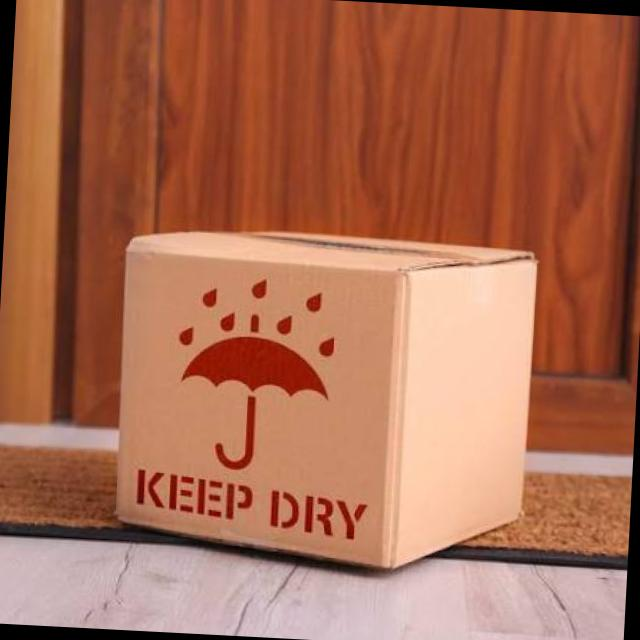keep_dry_label: (110, 249, 402, 566)
